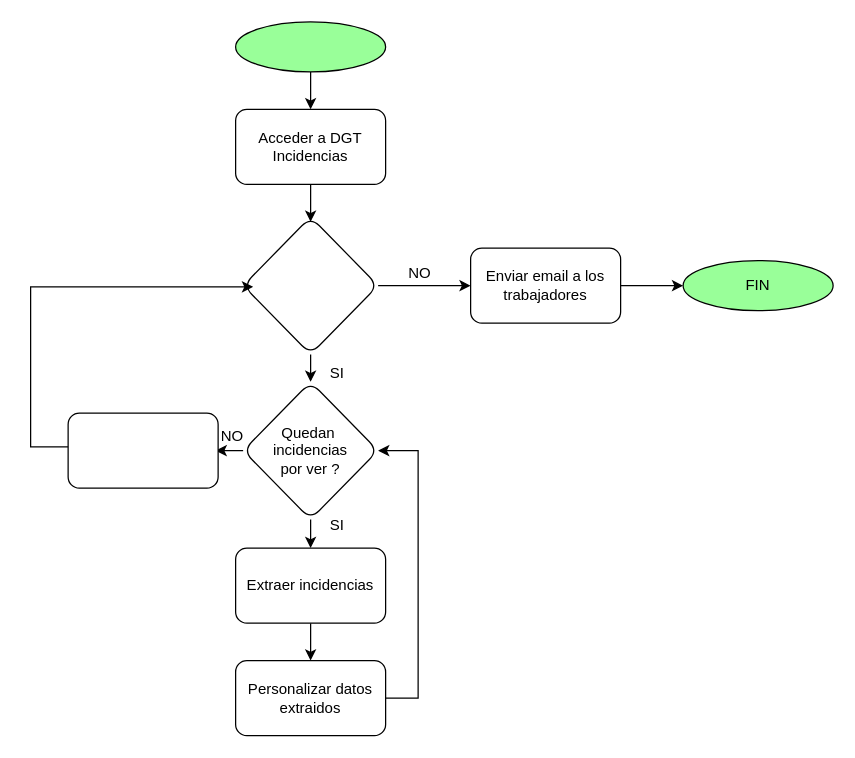
Image size: 855x758. Some labels were removed from this diagram. Here are the shapes that lost their labels. From the top down, the centre of each, then its label:
(310,46): START
(310,285): Quedan transportistas por ver ?
(142,450): Añadir incidencias a excel
